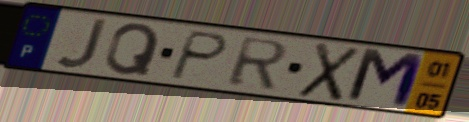J: (53, 17, 111, 71)
M: (342, 46, 429, 112)
P: (166, 28, 232, 83)
Q: (103, 22, 164, 78)
R: (224, 35, 291, 92)
X: (294, 40, 364, 104)
